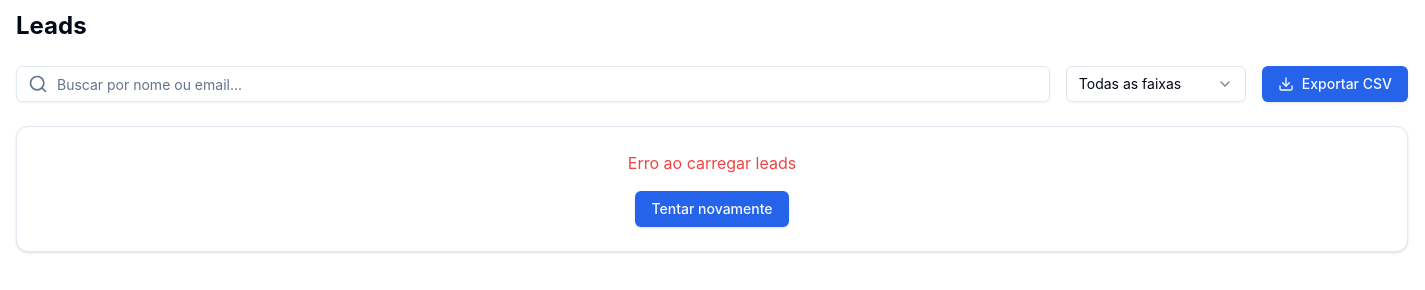
Scenario: AdminLeads › should retry the request when clicking Tentar novamente
Expected: the text "Erro ao carregar leads" is shown, [628,153,796,173]
What coordinates should you click on to do the following:
click the button "Tentar novamente"
I would click on:
 (712, 209)
Its box is [636,191,789,227].
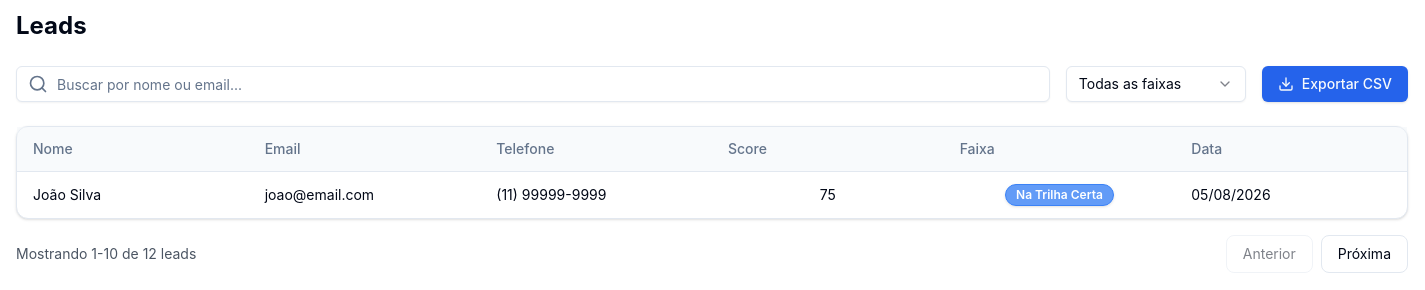
Result: the text "João Silva" is shown at [17,172,249,218]
